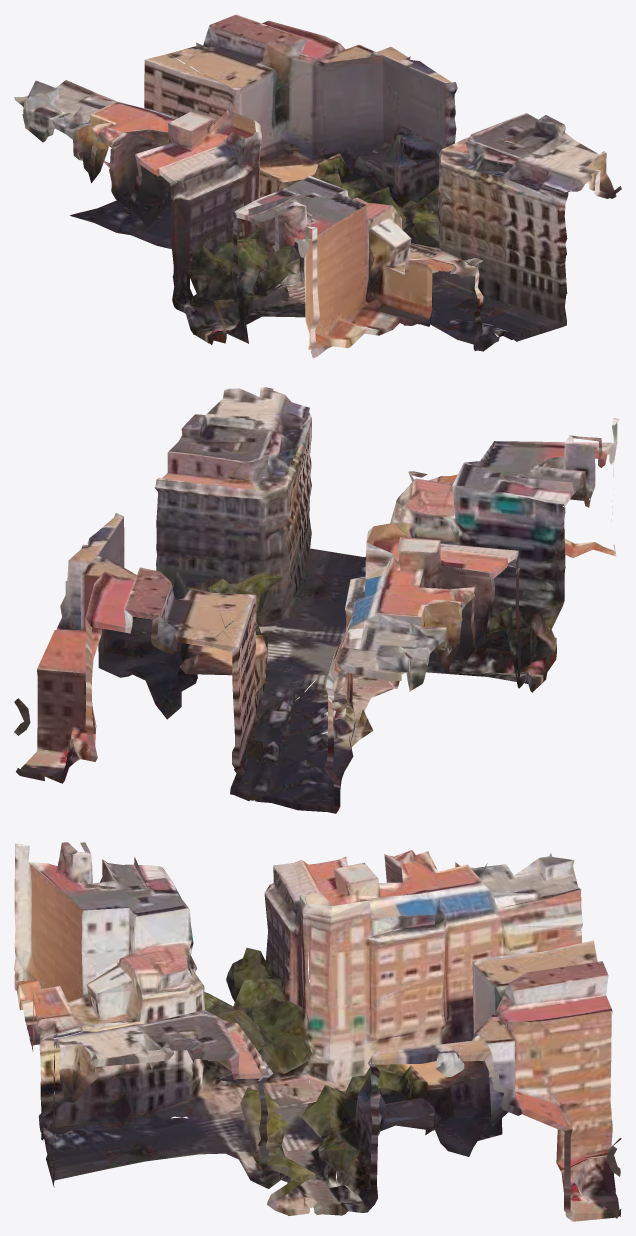
The picture shows the model from 3 angles, top to bottom: view 1: azimuth 30°, elevation 25°; view 2: azimuth 150°, elevation 25°; view 3: azimuth 270°, elevation 25°; orthographic projection. The views are drawn at different scales.
Visible parts, largest first — view 1: Mesh_0; view 2: Mesh_0; view 3: Mesh_0.
Part boxes in pixels (x1,y1,x2,y2): Mesh_0: [14, 14, 621, 358]; Mesh_0: [14, 387, 619, 813]; Mesh_0: [14, 842, 621, 1221].
Size of the model in its own units: 66.84 by 33.45 by 82.67.
1 material, 1 textured.
